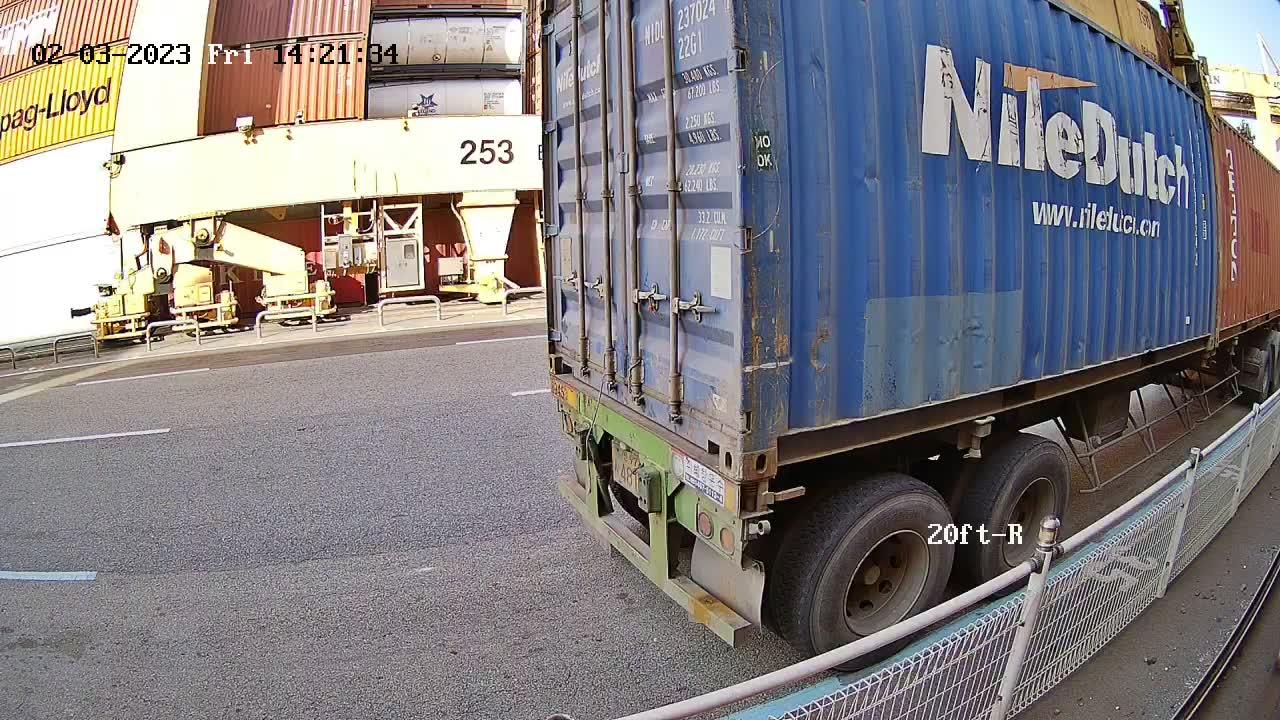Chassis: (548, 374, 772, 516)
Cone: (738, 476, 775, 519)
Hole_L: (739, 403, 810, 480), (547, 334, 581, 385)
Hole_R: (693, 395, 740, 481)
Tire: (807, 487, 958, 673), (981, 444, 1072, 593)
